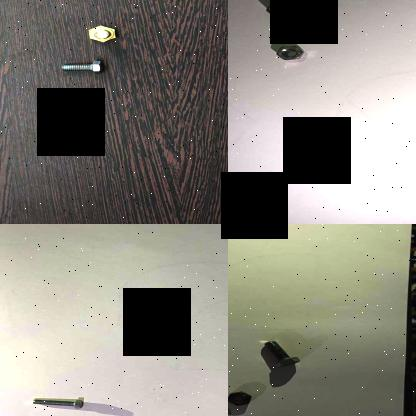Bolts: (261, 338, 303, 372), (58, 55, 112, 77), (78, 22, 124, 46), (28, 396, 90, 410)
NUTS: (263, 0, 311, 20), (276, 43, 304, 61), (228, 391, 256, 405)
